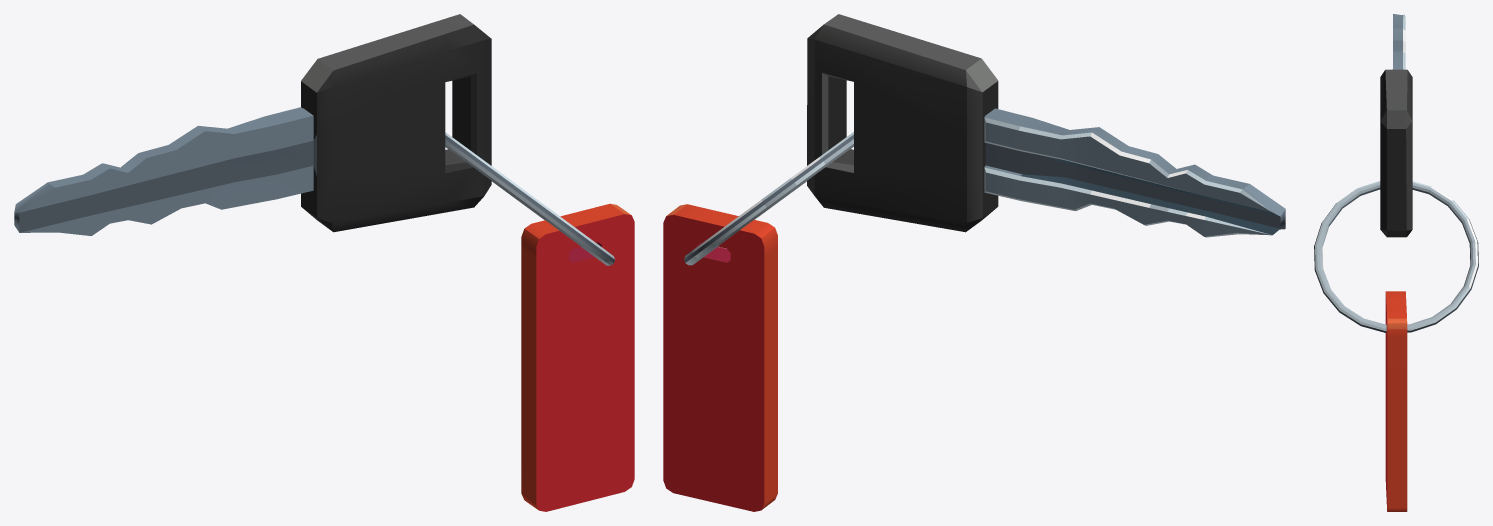
The model's file is PL_Assets_Z2Key.fbx.
3 views of the same model, side by side, from view 1: azimuth 30°, elevation 25°; view 2: azimuth 150°, elevation 25°; view 3: azimuth 270°, elevation 25° (orthographic). The views are drawn at different scales.
Parts seen in each view (by area): view 1: pCube259, pCube260, pTorus11; view 2: pCube259, pCube260, pTorus11; view 3: pCube259, pCube260, pTorus11.
Boxes of the visible parts, x1,y1,x2,y2 form: pCube259: (14,14,491,235); pCube260: (521,203,634,511); pTorus11: (445,132,614,265); pCube259: (807,14,1285,237); pCube260: (663,204,777,511); pTorus11: (684,132,853,265); pCube259: (1380,14,1412,237); pCube260: (1385,291,1407,511); pTorus11: (1314,181,1478,332).
Size of the model in its own units: 10.33 by 8.14 by 3.47.
